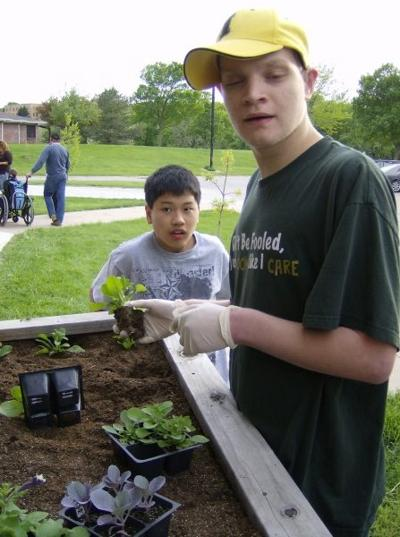person: (97, 6, 400, 533)
